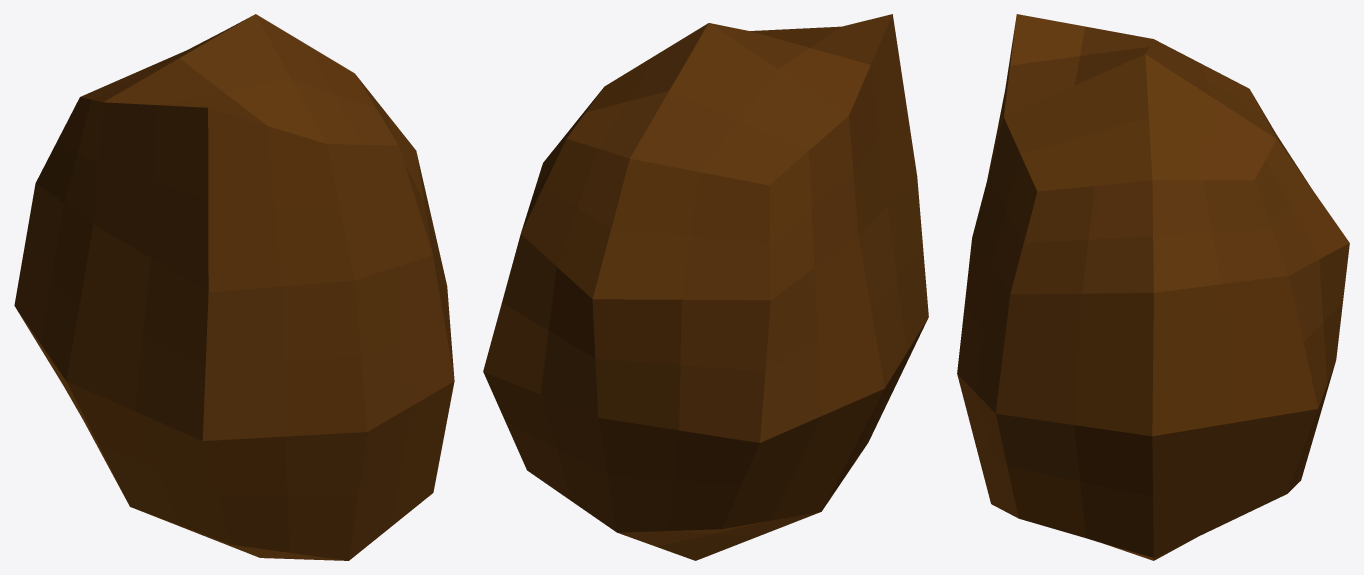
Rendered from asteroid_5.fbx.
The picture shows the model from 3 angles, left to right: view 1: azimuth 30°, elevation 25°; view 2: azimuth 150°, elevation 25°; view 3: azimuth 270°, elevation 25°; orthographic projection. The views are drawn at different scales.
Parts seen in each view (by area): view 1: Asteroid_05; view 2: Asteroid_05; view 3: Asteroid_05.
Boxes of the visible parts, x1=… form: Asteroid_05: x1=14, y1=14, x2=454, y2=560; Asteroid_05: x1=483, y1=14, x2=928, y2=560; Asteroid_05: x1=957, y1=14, x2=1349, y2=560.
Bounding box in the file's own units: 850 × 1175 × 832.
